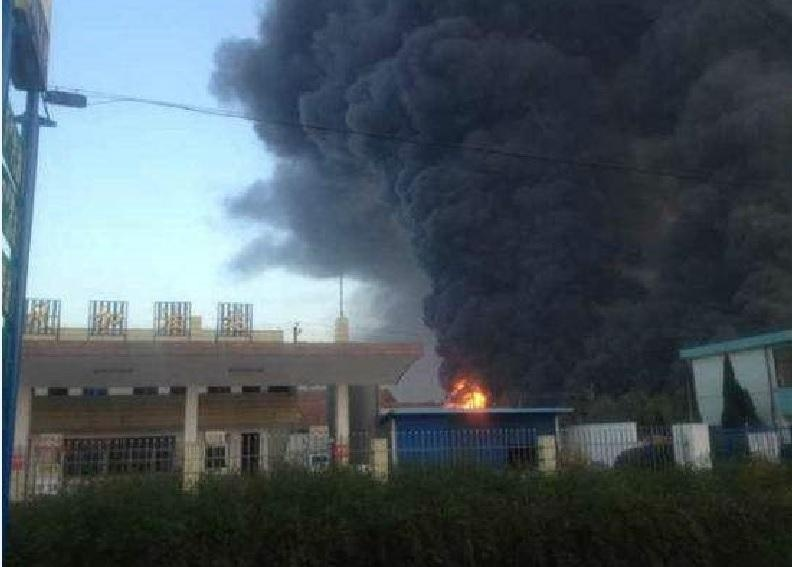fire: (450, 377, 492, 410)
